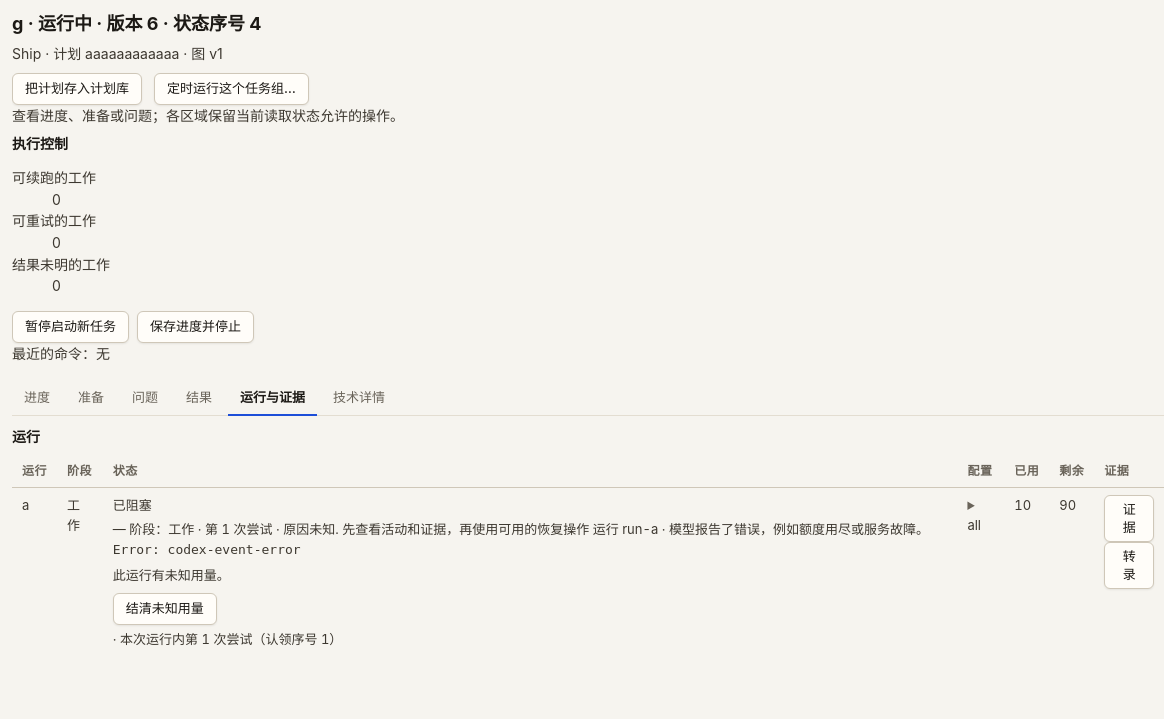
Test: renders Chinese settlement and recovery guidance
What coordinates should you click on to do the following:
click the button "结清未知用量"
I would click on:
 (165, 609)
Its box is [113, 593, 217, 625].
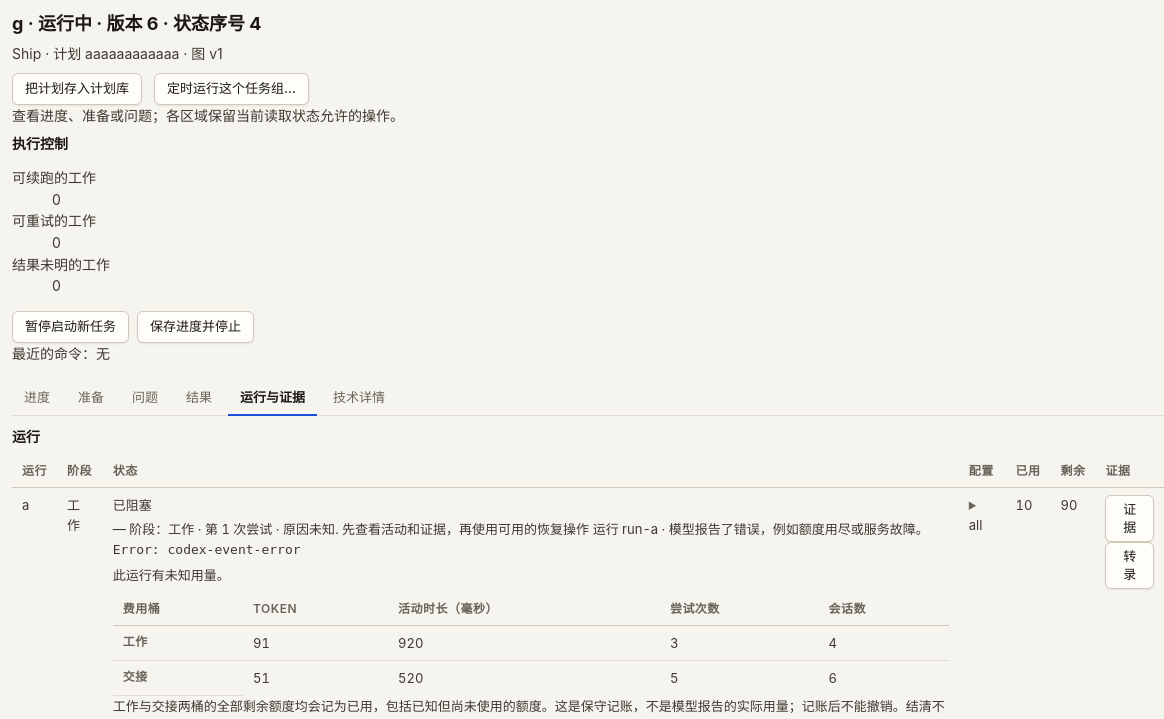
Check: the table named "将记入的剩余额度" is shown, box [113, 593, 949, 696]
